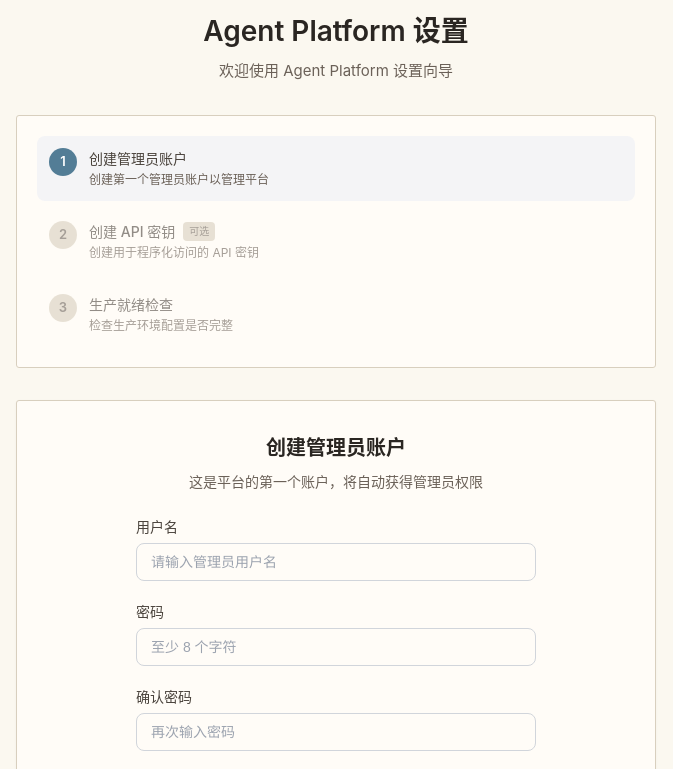
Test: Cross-Feature Regression Suite › Setup Readiness UI Integration › validates admin password requirements
In the field with test id "admin-username-input": (336, 562) x1=136 y1=542 x2=536 y2=580, type "admin"
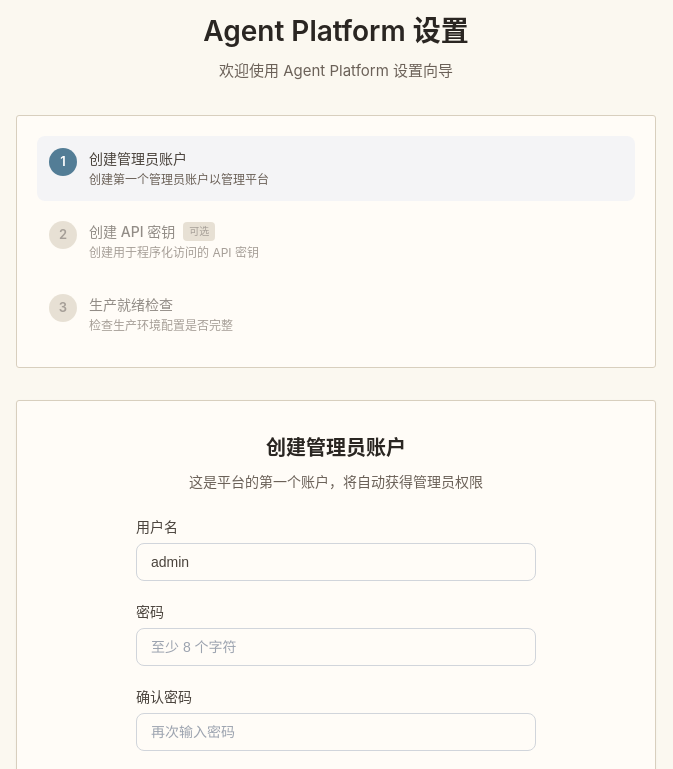
In the password field with test id "admin-password-input": (336, 646) x1=136 y1=628 x2=536 y2=666, type "short"
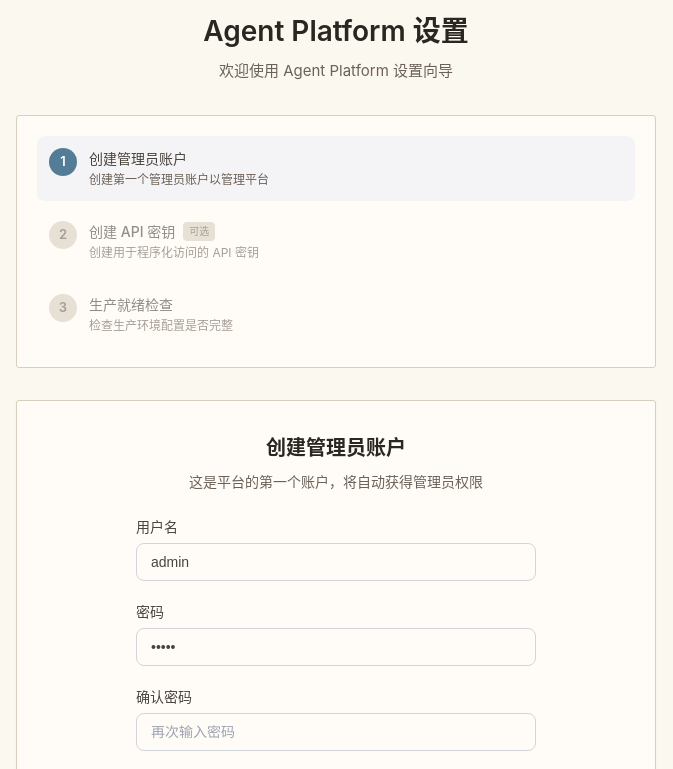
In the password field with test id "admin-confirm-password-input": (336, 732) x1=136 y1=712 x2=536 y2=750, type "short"
(page scrolled)
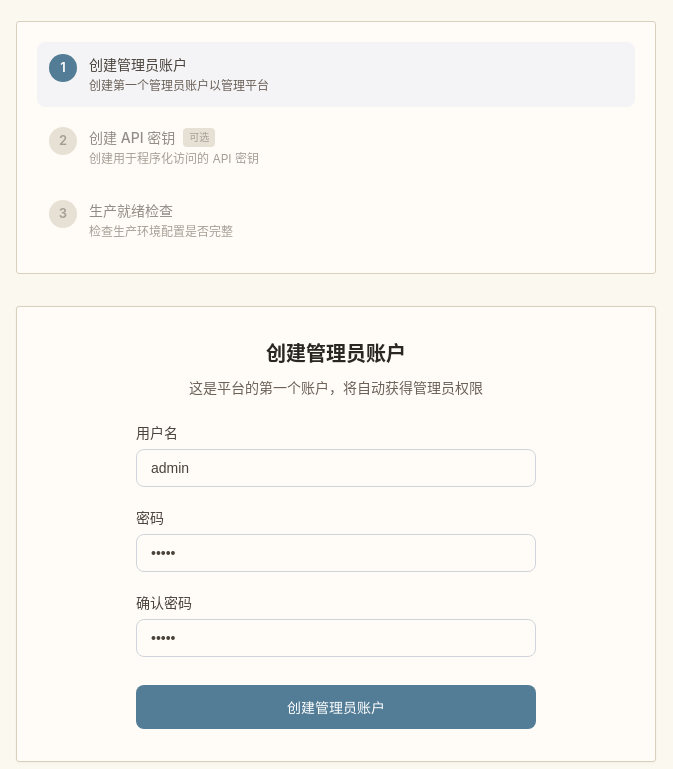
Click the button with test id "admin-create-submit": (336, 706) x1=136 y1=684 x2=536 y2=728
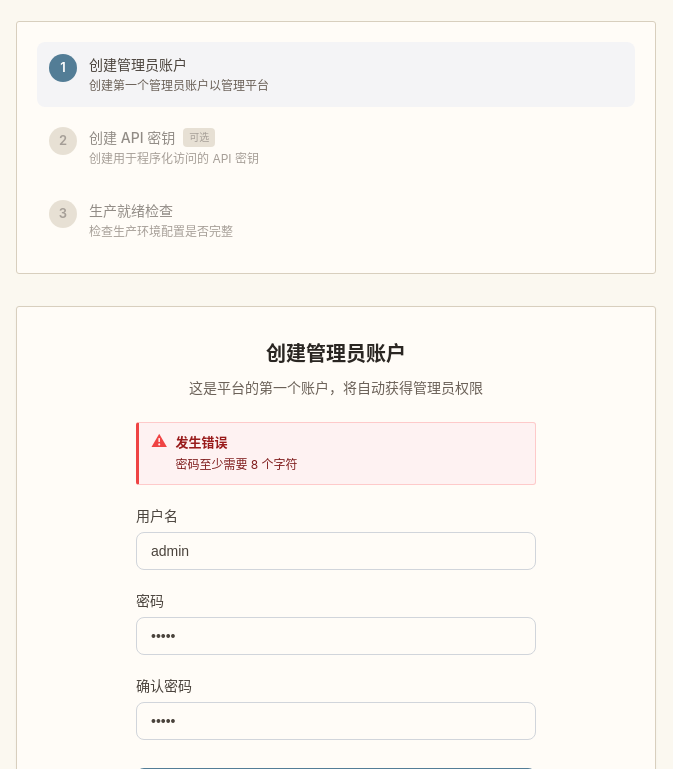
expect the message with test id "setup-admin-error" shows "密码至少需要 8 个字符": met, box x1=175 y1=457 x2=298 y2=472
